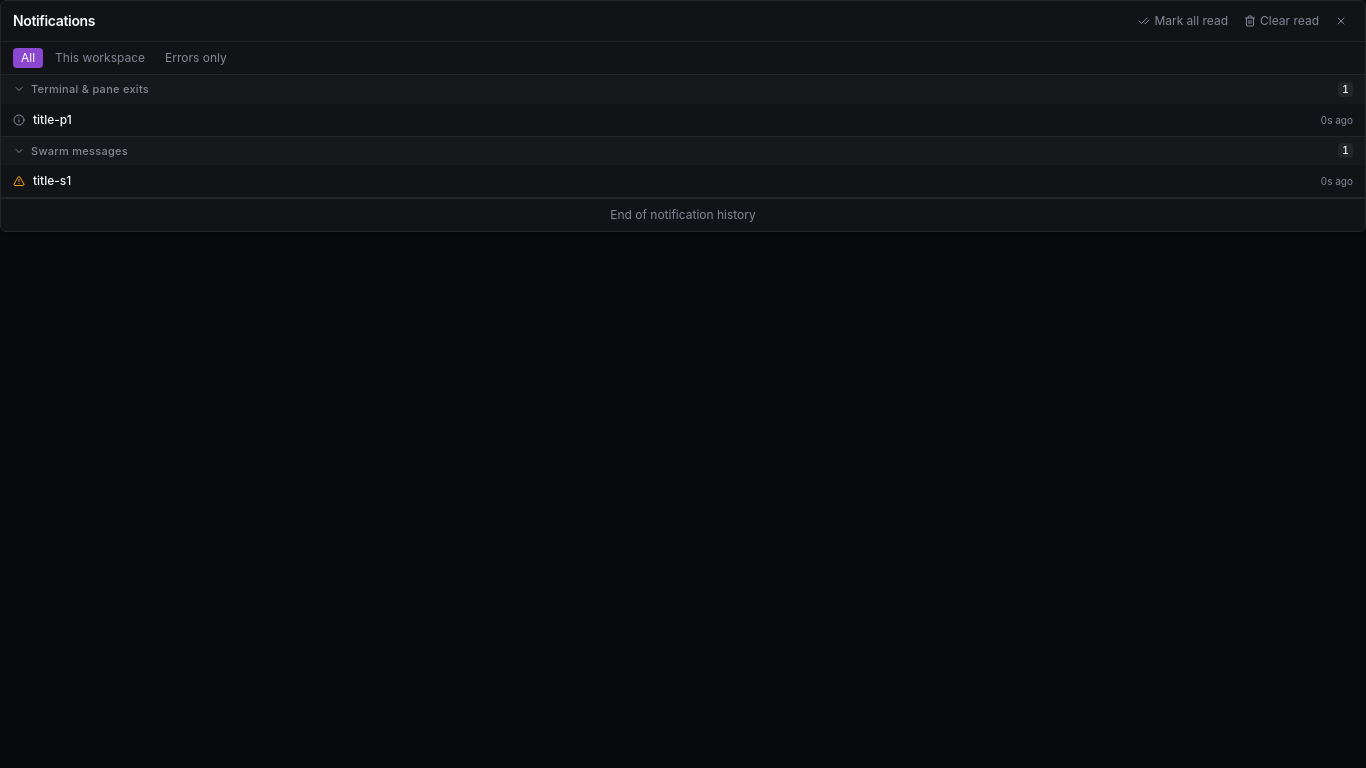
Test: NotificationDropdown › NTF-2 — collapsing a section hides its items (default expanded)
Check: the element with test id "notification-item-p1" is shown, box [13,112,1353,128]
Check: the element with test id "notification-item-s1" is shown, box [13,173,1353,189]
# Collapse the pty section.
Click the button with test id "notification-section-toggle-pty".
click(90, 89)  # box [1,75,1365,104]
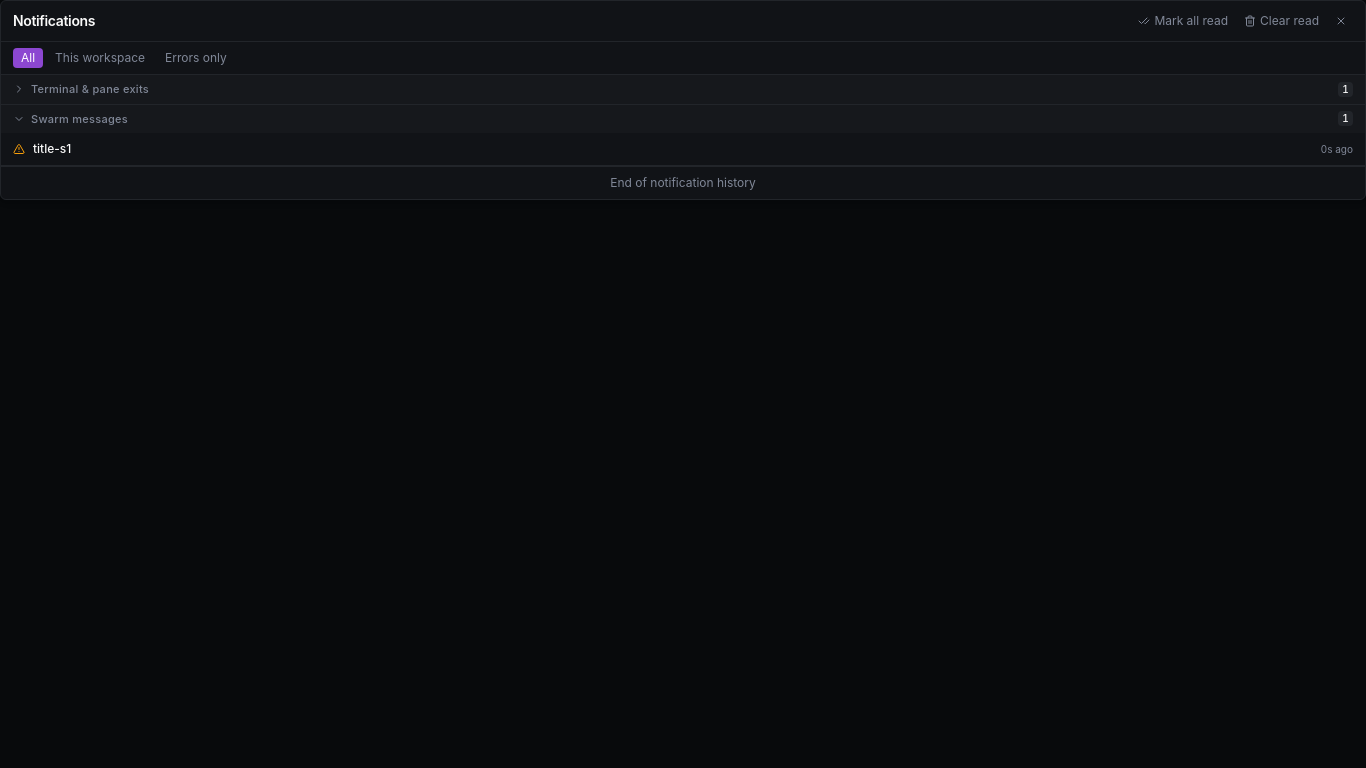
Check: the element with test id "notification-item-s1" is shown, box [13,141,1353,157]
Check: the element with test id "notification-item-p1" is gone
# Re-expand restores the items.
Click the button with test id "notification-section-toggle-pty".
click(90, 89)  # box [1,75,1365,104]
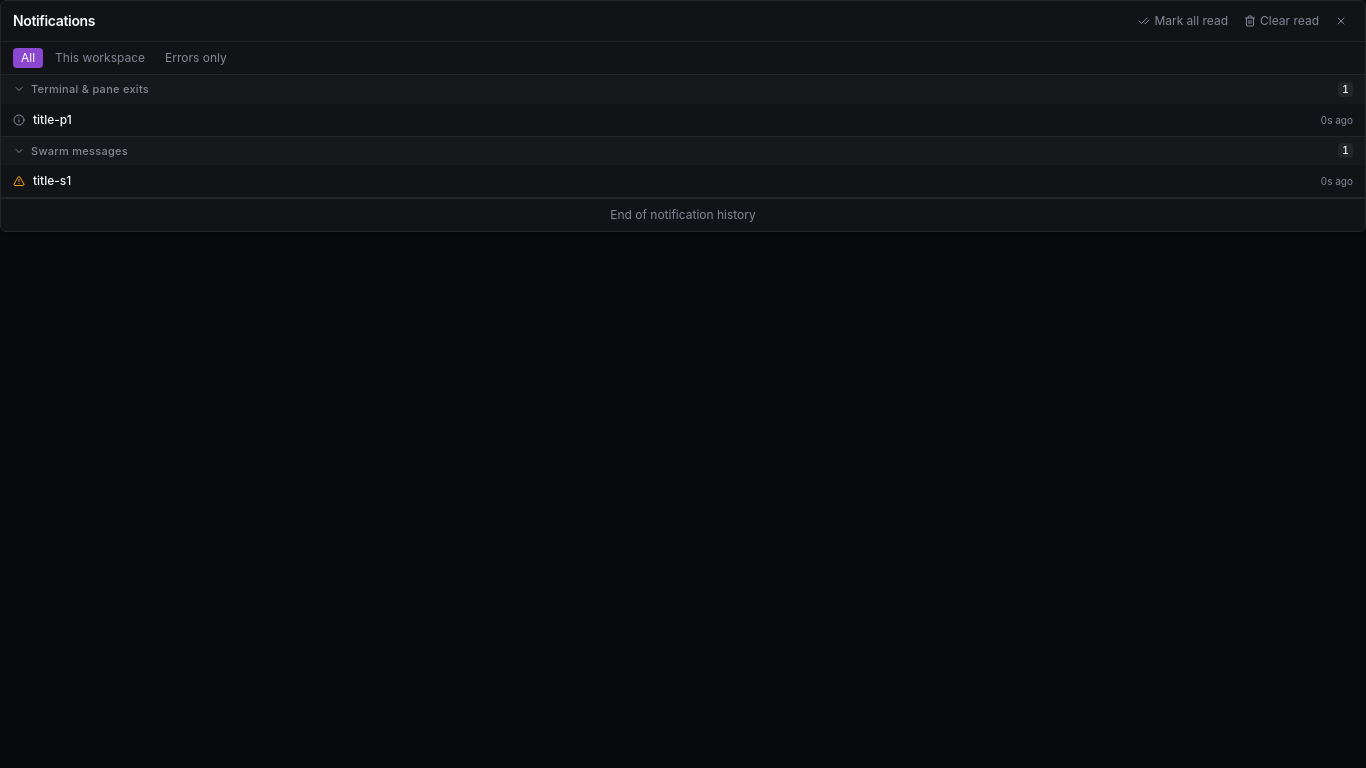
Check: the element with test id "notification-item-p1" is shown, box [13,112,1353,128]
